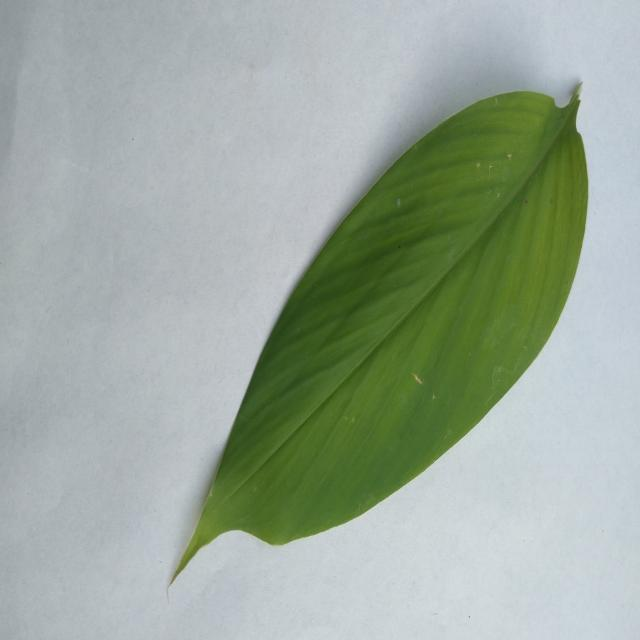turmeric: (171, 87, 588, 582)
